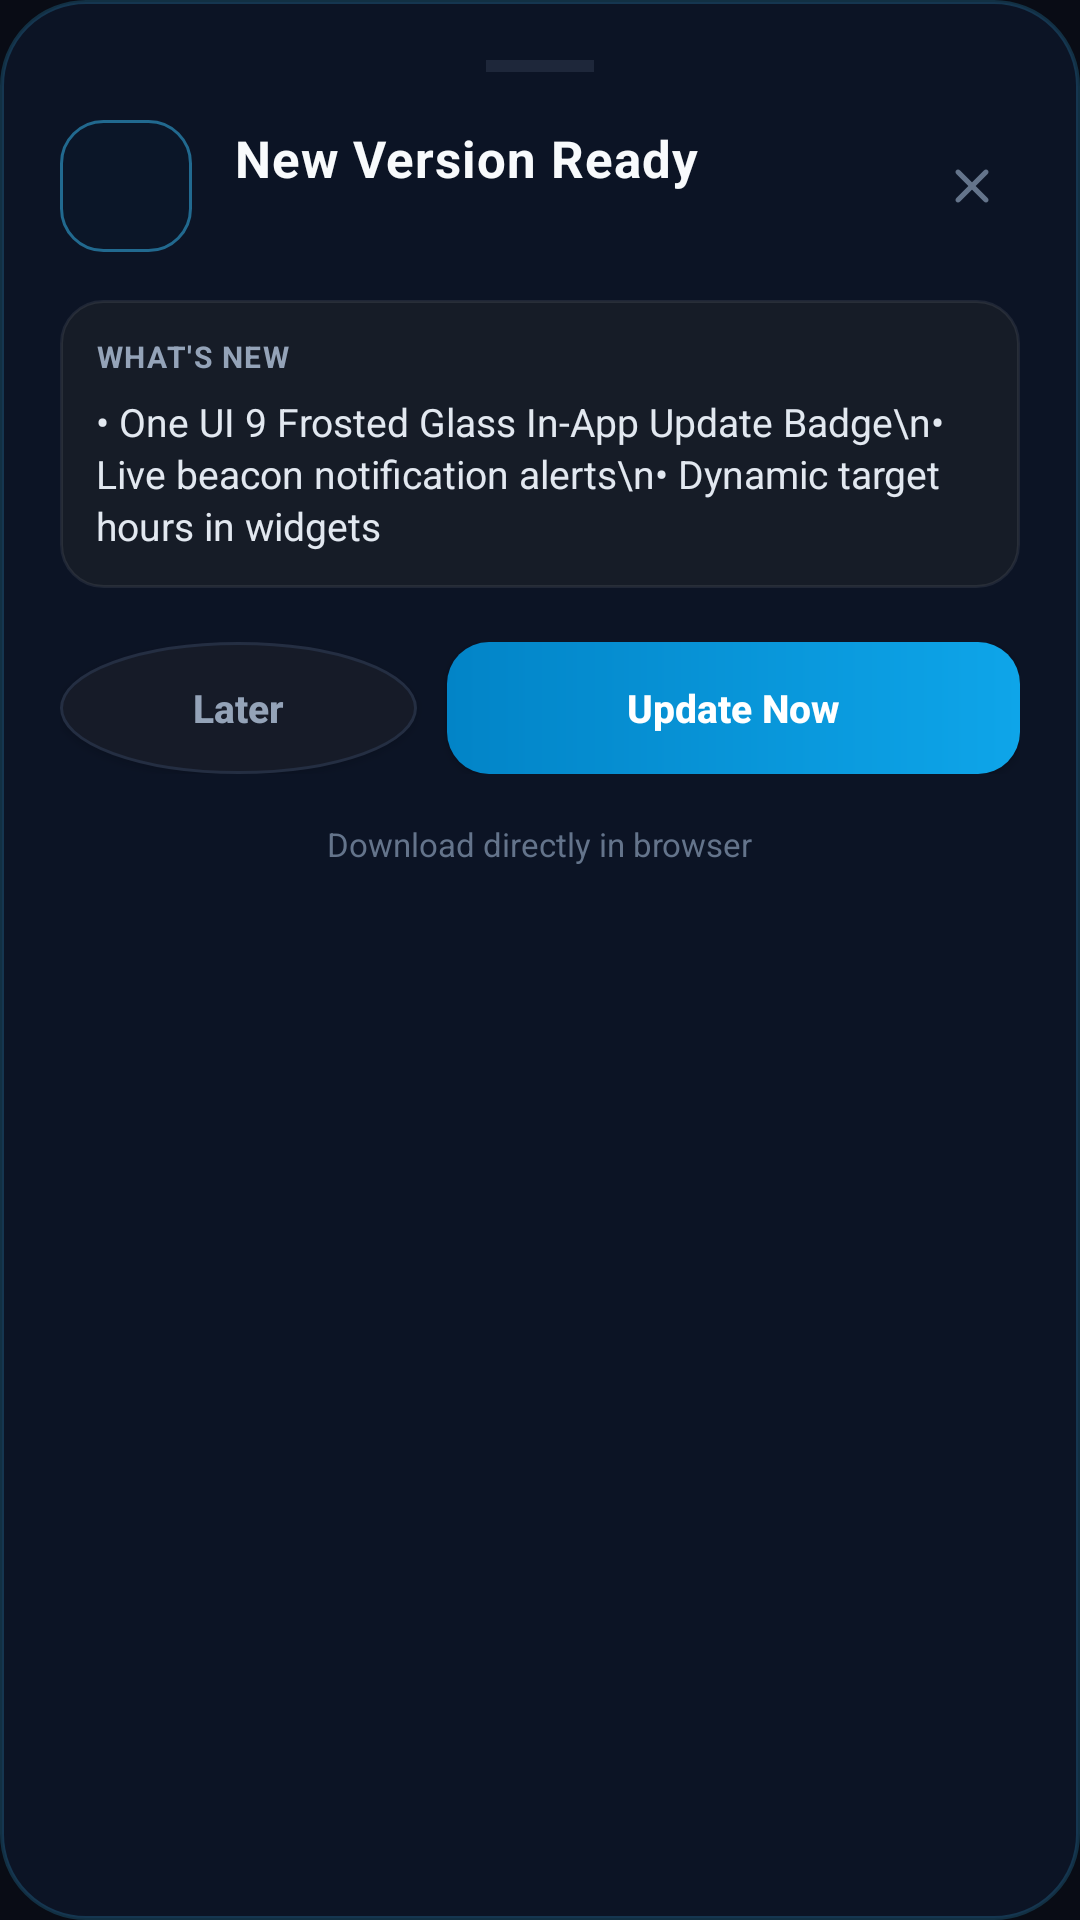

Icon bounding boxes for this 1080px x 1920px phone screenshot, format box=[x1, y1, x2, y2]:
Close dialog: box=[955, 169, 989, 203]
